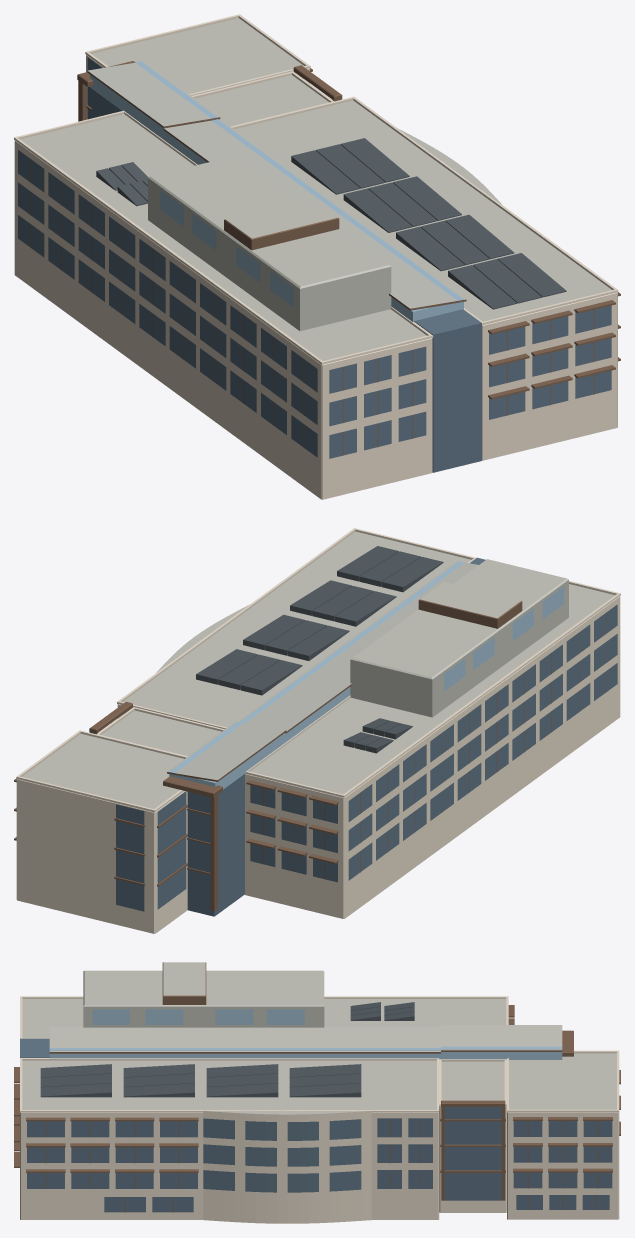
The model's file is dc-school-of-international-service.glb.
3 renders of one model, top to bottom at view 1: azimuth 30°, elevation 25°; view 2: azimuth 150°, elevation 25°; view 3: azimuth 270°, elevation 25°, orthographic. The views are drawn at different scales.
Visible parts, largest first — view 1: School of International Service; view 2: School of International Service; view 3: School of International Service.
Part boxes in pixels (x1=…): School of International Service: x1=14, y1=14, x2=620, y2=499; School of International Service: x1=14, y1=528, x2=620, y2=933; School of International Service: x1=14, y1=962, x2=620, y2=1223.
Size of the model in its own units: 33.4 by 19.76 by 72.01.
